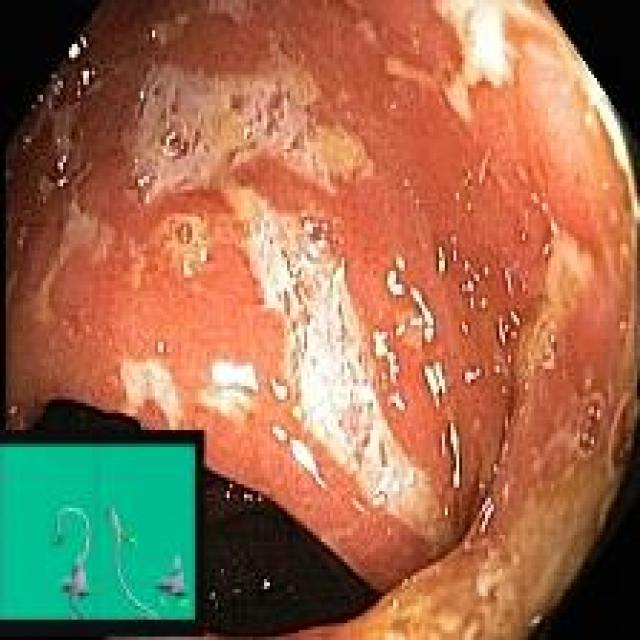ulcerative-colitis-grade-3: (6, 1, 640, 636)
